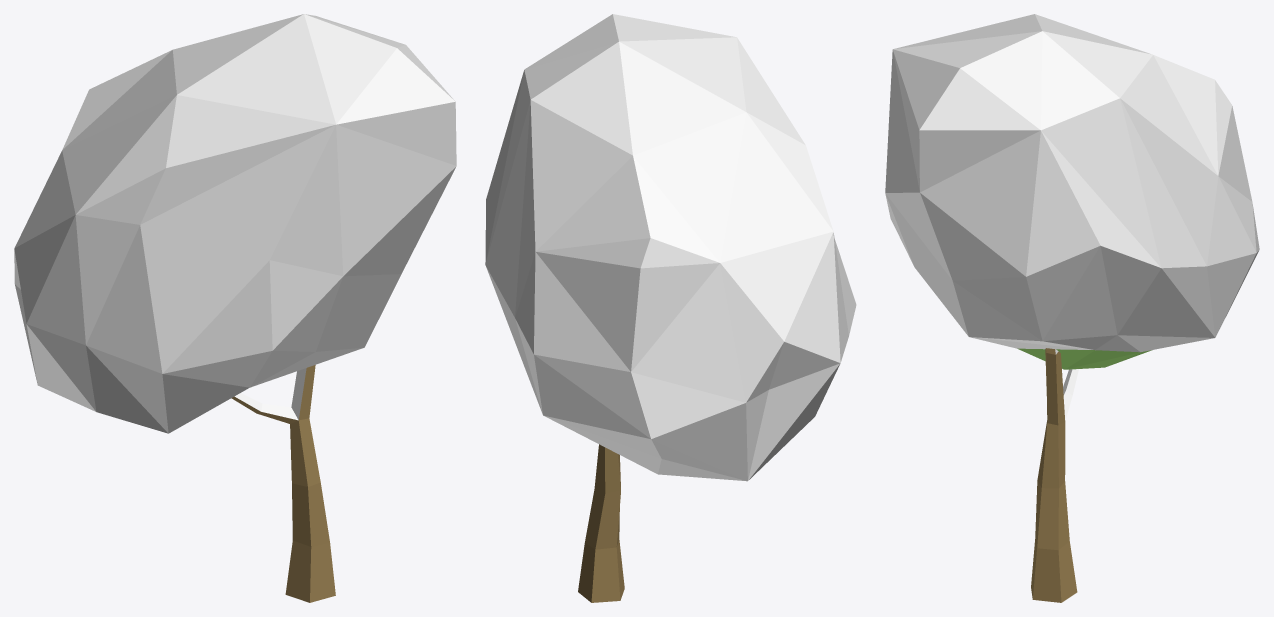
File: Oak_Tree_m_Snow_BT_04.fbx
The picture shows the model from 3 angles, left to right: view 1: azimuth 30°, elevation 25°; view 2: azimuth 150°, elevation 25°; view 3: azimuth 270°, elevation 25°; orthographic projection. The views are drawn at different scales.
Visible parts, largest first — view 1: Oak_Tree_m_Snow_BT_04; view 2: Oak_Tree_m_Snow_BT_04; view 3: Oak_Tree_m_Snow_BT_04.
Boxes of the visible parts, x1,y1,x2,y2 form: Oak_Tree_m_Snow_BT_04: (14, 14, 456, 602); Oak_Tree_m_Snow_BT_04: (485, 14, 856, 602); Oak_Tree_m_Snow_BT_04: (885, 14, 1259, 602).
Size of the model in its own units: 569 by 823 by 502.
